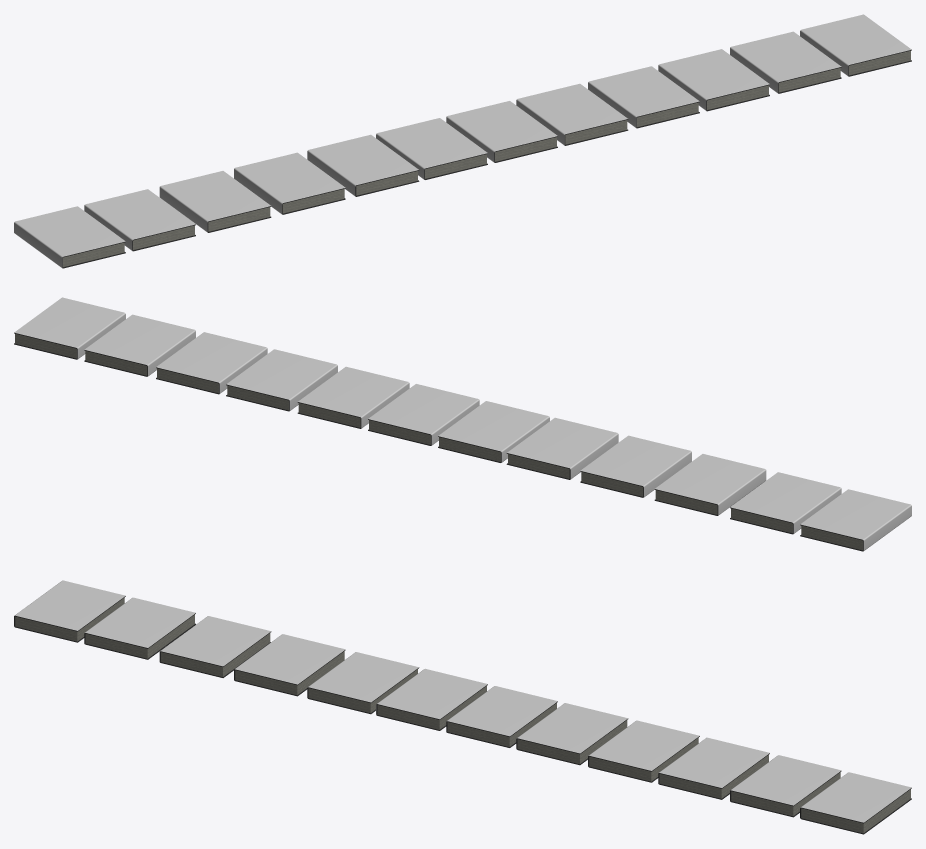
The model's file is N-House-11-Books.fbx.
The picture shows the model from 3 angles, top to bottom: view 1: azimuth 30°, elevation 25°; view 2: azimuth 150°, elevation 25°; view 3: azimuth 330°, elevation 25°; orthographic projection.
Parts seen in each view (by area): view 1: Book_C, Book_A, Book_D, Book_E, Book_K, Book_I, Book_H, Book_J, Book_L, Book_B, Book_G, Book_F; view 2: Book_C, Book_A, Book_D, Book_E, Book_K, Book_I, Book_H, Book_J, Book_L, Book_B, Book_G, Book_F; view 3: Book_L, Book_B, Book_C, Book_D, Book_H, Book_J, Book_A, Book_G, Book_I, Book_K, Book_F, Book_E.
Boxes of the visible parts, x1,y1,x2,y2 form: Book_C: (159,171,271,232); Book_A: (14,206,125,268); Book_D: (234,152,345,214); Book_E: (307,134,419,196); Book_K: (730,31,841,93); Book_I: (588,66,699,128); Book_H: (516,83,628,145); Book_J: (658,49,769,111); Book_L: (800,14,911,76); Book_B: (84,189,195,251); Book_G: (446,101,557,162); Book_F: (376,118,487,180); Book_C: (654,454,766,515); Book_A: (800,489,911,551); Book_D: (580,435,691,497); Book_E: (506,417,618,479); Book_K: (84,314,195,376); Book_I: (226,349,337,411); Book_H: (297,366,409,428); Book_J: (156,332,267,394); Book_L: (14,297,125,359); Book_B: (730,472,841,534); Book_G: (368,384,479,445); Book_F: (438,401,549,463); Book_L: (800,772,911,834); Book_B: (84,597,195,659); Book_C: (159,616,271,677); Book_D: (234,634,345,696); Book_H: (516,703,628,765); Book_J: (658,737,769,799); Book_A: (14,580,125,642); Book_G: (446,686,557,747); Book_I: (588,720,699,782); Book_K: (730,755,841,817); Book_F: (376,668,487,730); Book_E: (307,652,419,714).
Bounding box in the file's own units: 295 × 3.97 × 28.92.
